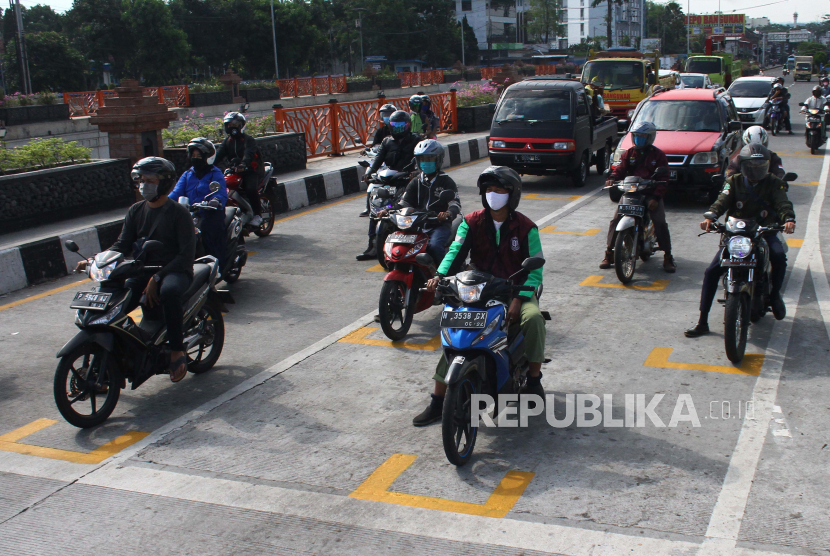car: (616, 89, 741, 205), (489, 77, 615, 188), (579, 52, 675, 136), (721, 76, 779, 129), (682, 52, 740, 103), (674, 72, 713, 118), (794, 55, 815, 81)
motorbike: (416, 166, 571, 462), (56, 154, 227, 414), (700, 131, 792, 364), (376, 141, 473, 345), (158, 141, 247, 293), (603, 121, 681, 287), (366, 108, 439, 261), (208, 113, 279, 245), (804, 85, 830, 160), (767, 75, 792, 136)
